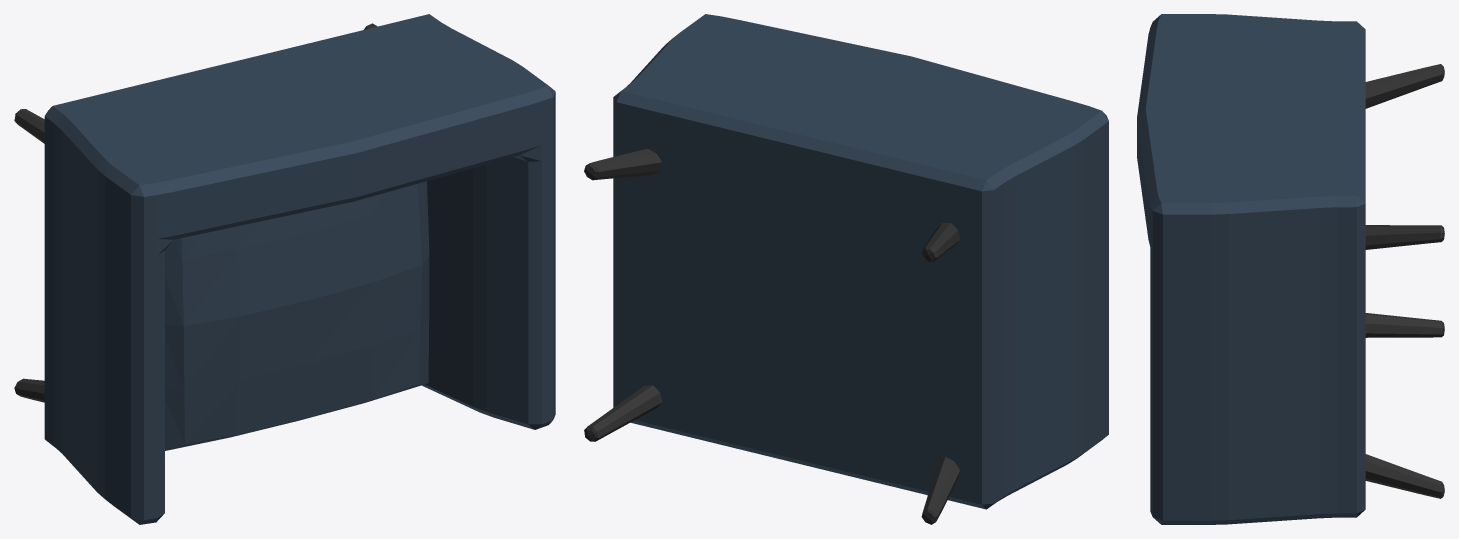
File: armchair-club.obj
3 views of the same model, side by side, from view 1: azimuth 30°, elevation 25°; view 2: azimuth 150°, elevation 25°; view 3: azimuth 270°, elevation 25° (orthographic). The views are drawn at different scales.
Parts seen in each view (by area): view 1: armchair-club; view 2: armchair-club; view 3: armchair-club.
Boxes of the visible parts, x1,y1,x2,y2 form: armchair-club: (14, 14, 555, 524); armchair-club: (584, 14, 1108, 524); armchair-club: (1137, 14, 1444, 524).
Size of the model in its own units: 48.34 by 36.92 by 32.
